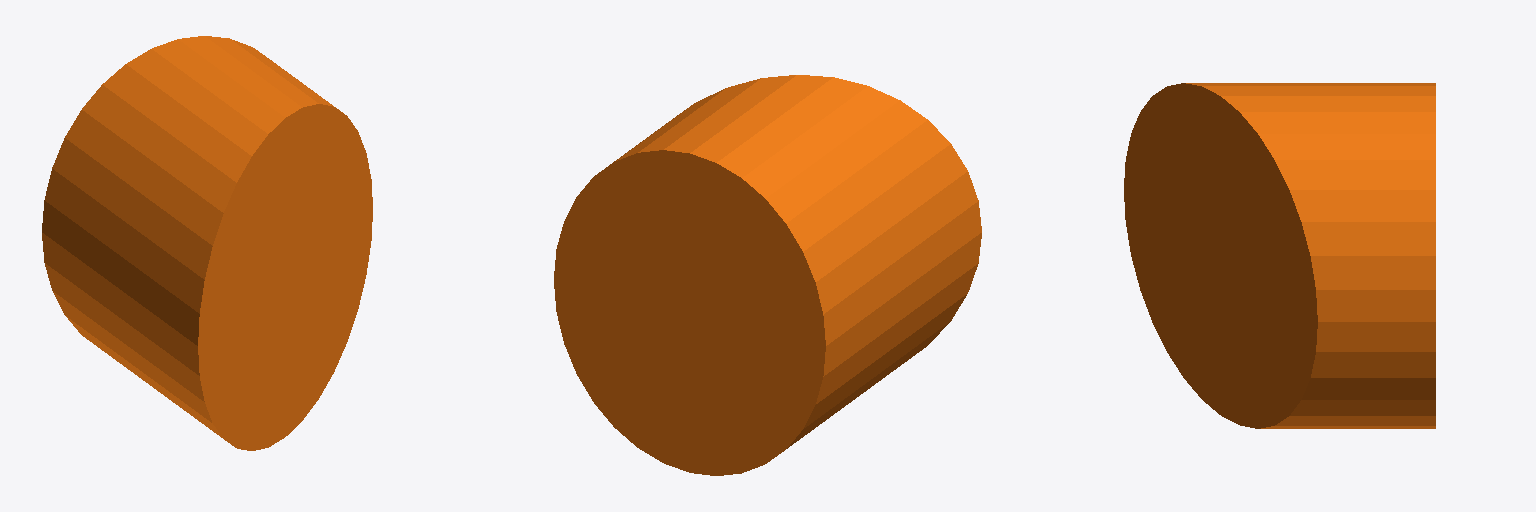
The model's file is tinker.obj.
3 views of the same model, side by side, from view 1: azimuth 30°, elevation 25°; view 2: azimuth 150°, elevation 25°; view 3: azimuth 270°, elevation 25° (orthographic).
Visible parts, largest first — view 1: obj_0; view 2: obj_0; view 3: obj_0.
Boxes of the visible parts, box(x1,y1,x2,y2) form: obj_0: box(42, 36, 372, 450); obj_0: box(554, 75, 981, 475); obj_0: box(1124, 83, 1435, 428).
Size of the model in its own units: 66 by 74 by 65.6.